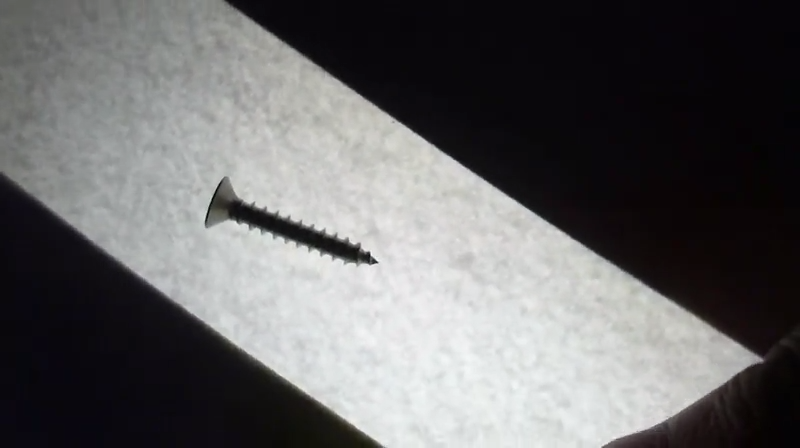S001: (201, 173, 385, 269)
